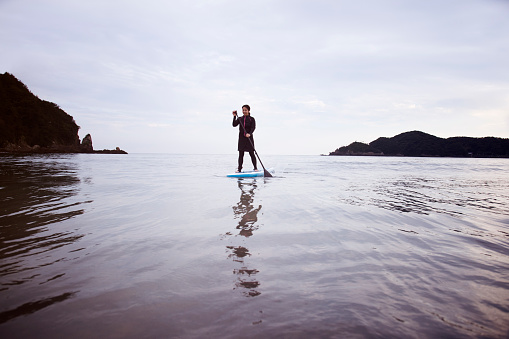em pe: (226, 103, 257, 173)
